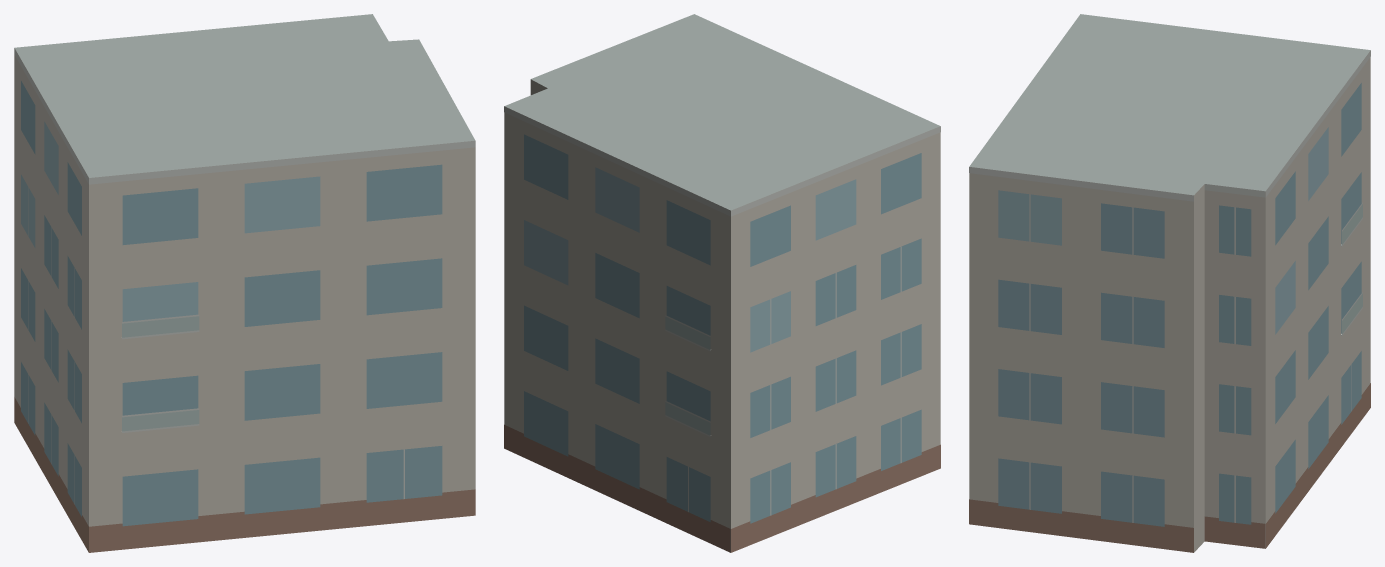
File: survey-upis-32869287.glb
The picture shows the model from 3 angles, left to right: view 1: azimuth 30°, elevation 25°; view 2: azimuth 150°, elevation 25°; view 3: azimuth 270°, elevation 25°; orthographic projection. The views are drawn at different scales.
Visible parts, largest first — view 1: survey-upis-32869287.tmp; view 2: survey-upis-32869287.tmp; view 3: survey-upis-32869287.tmp.
Part boxes in pixels (<box>): survey-upis-32869287.tmp: <box>14,14,475,552</box>; survey-upis-32869287.tmp: <box>504,14,940,552</box>; survey-upis-32869287.tmp: <box>969,14,1370,552</box>.
Size of the model in its own units: 14.97 by 13.75 by 14.01.
